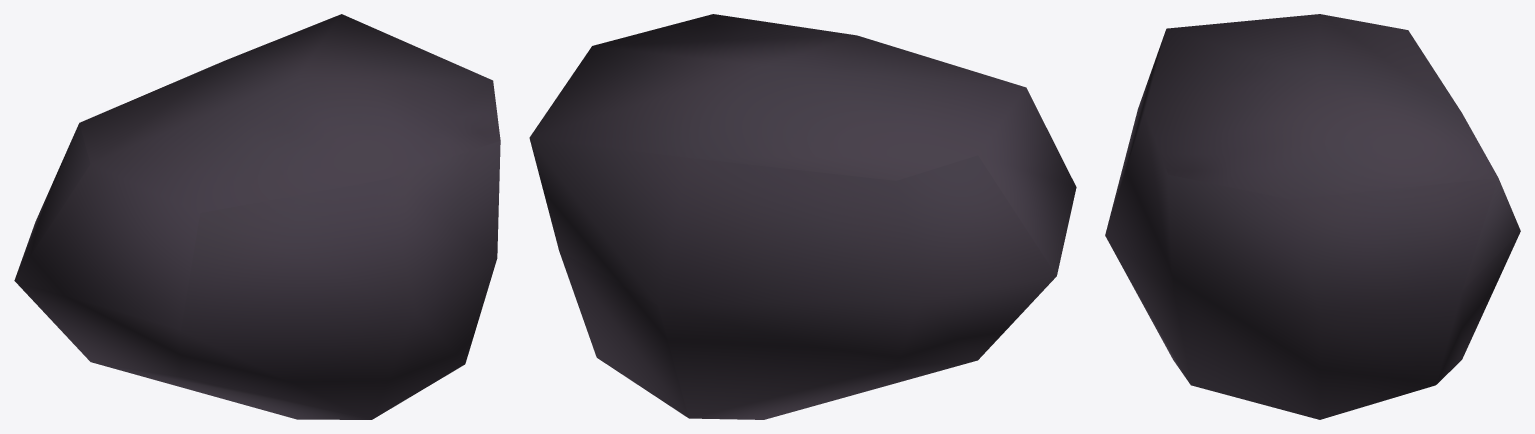
File: Rock.obj
3 views of the same model, side by side, from view 1: azimuth 30°, elevation 25°; view 2: azimuth 150°, elevation 25°; view 3: azimuth 270°, elevation 25° (orthographic). The views are drawn at different scales.
Visible parts, largest first — view 1: Cube; view 2: Cube; view 3: Cube.
Part boxes in pixels (<box>): Cube: <box>14,14,500,419</box>; Cube: <box>529,14,1076,419</box>; Cube: <box>1105,14,1520,419</box>.
Size of the model in its own units: 4.53 by 3.18 by 3.58.
